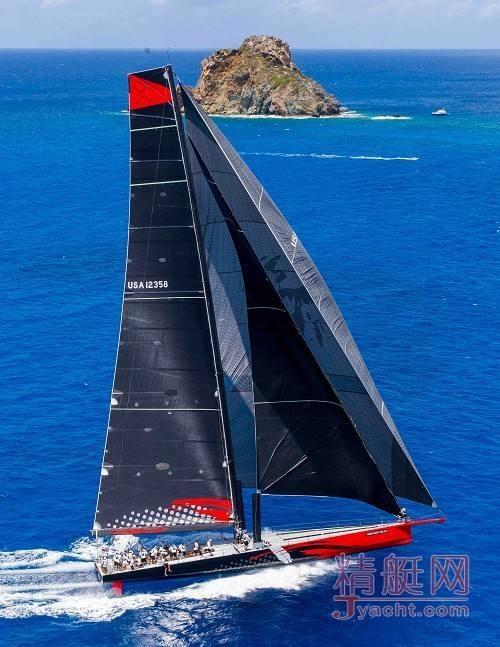fanchuan: (88, 58, 452, 601)
